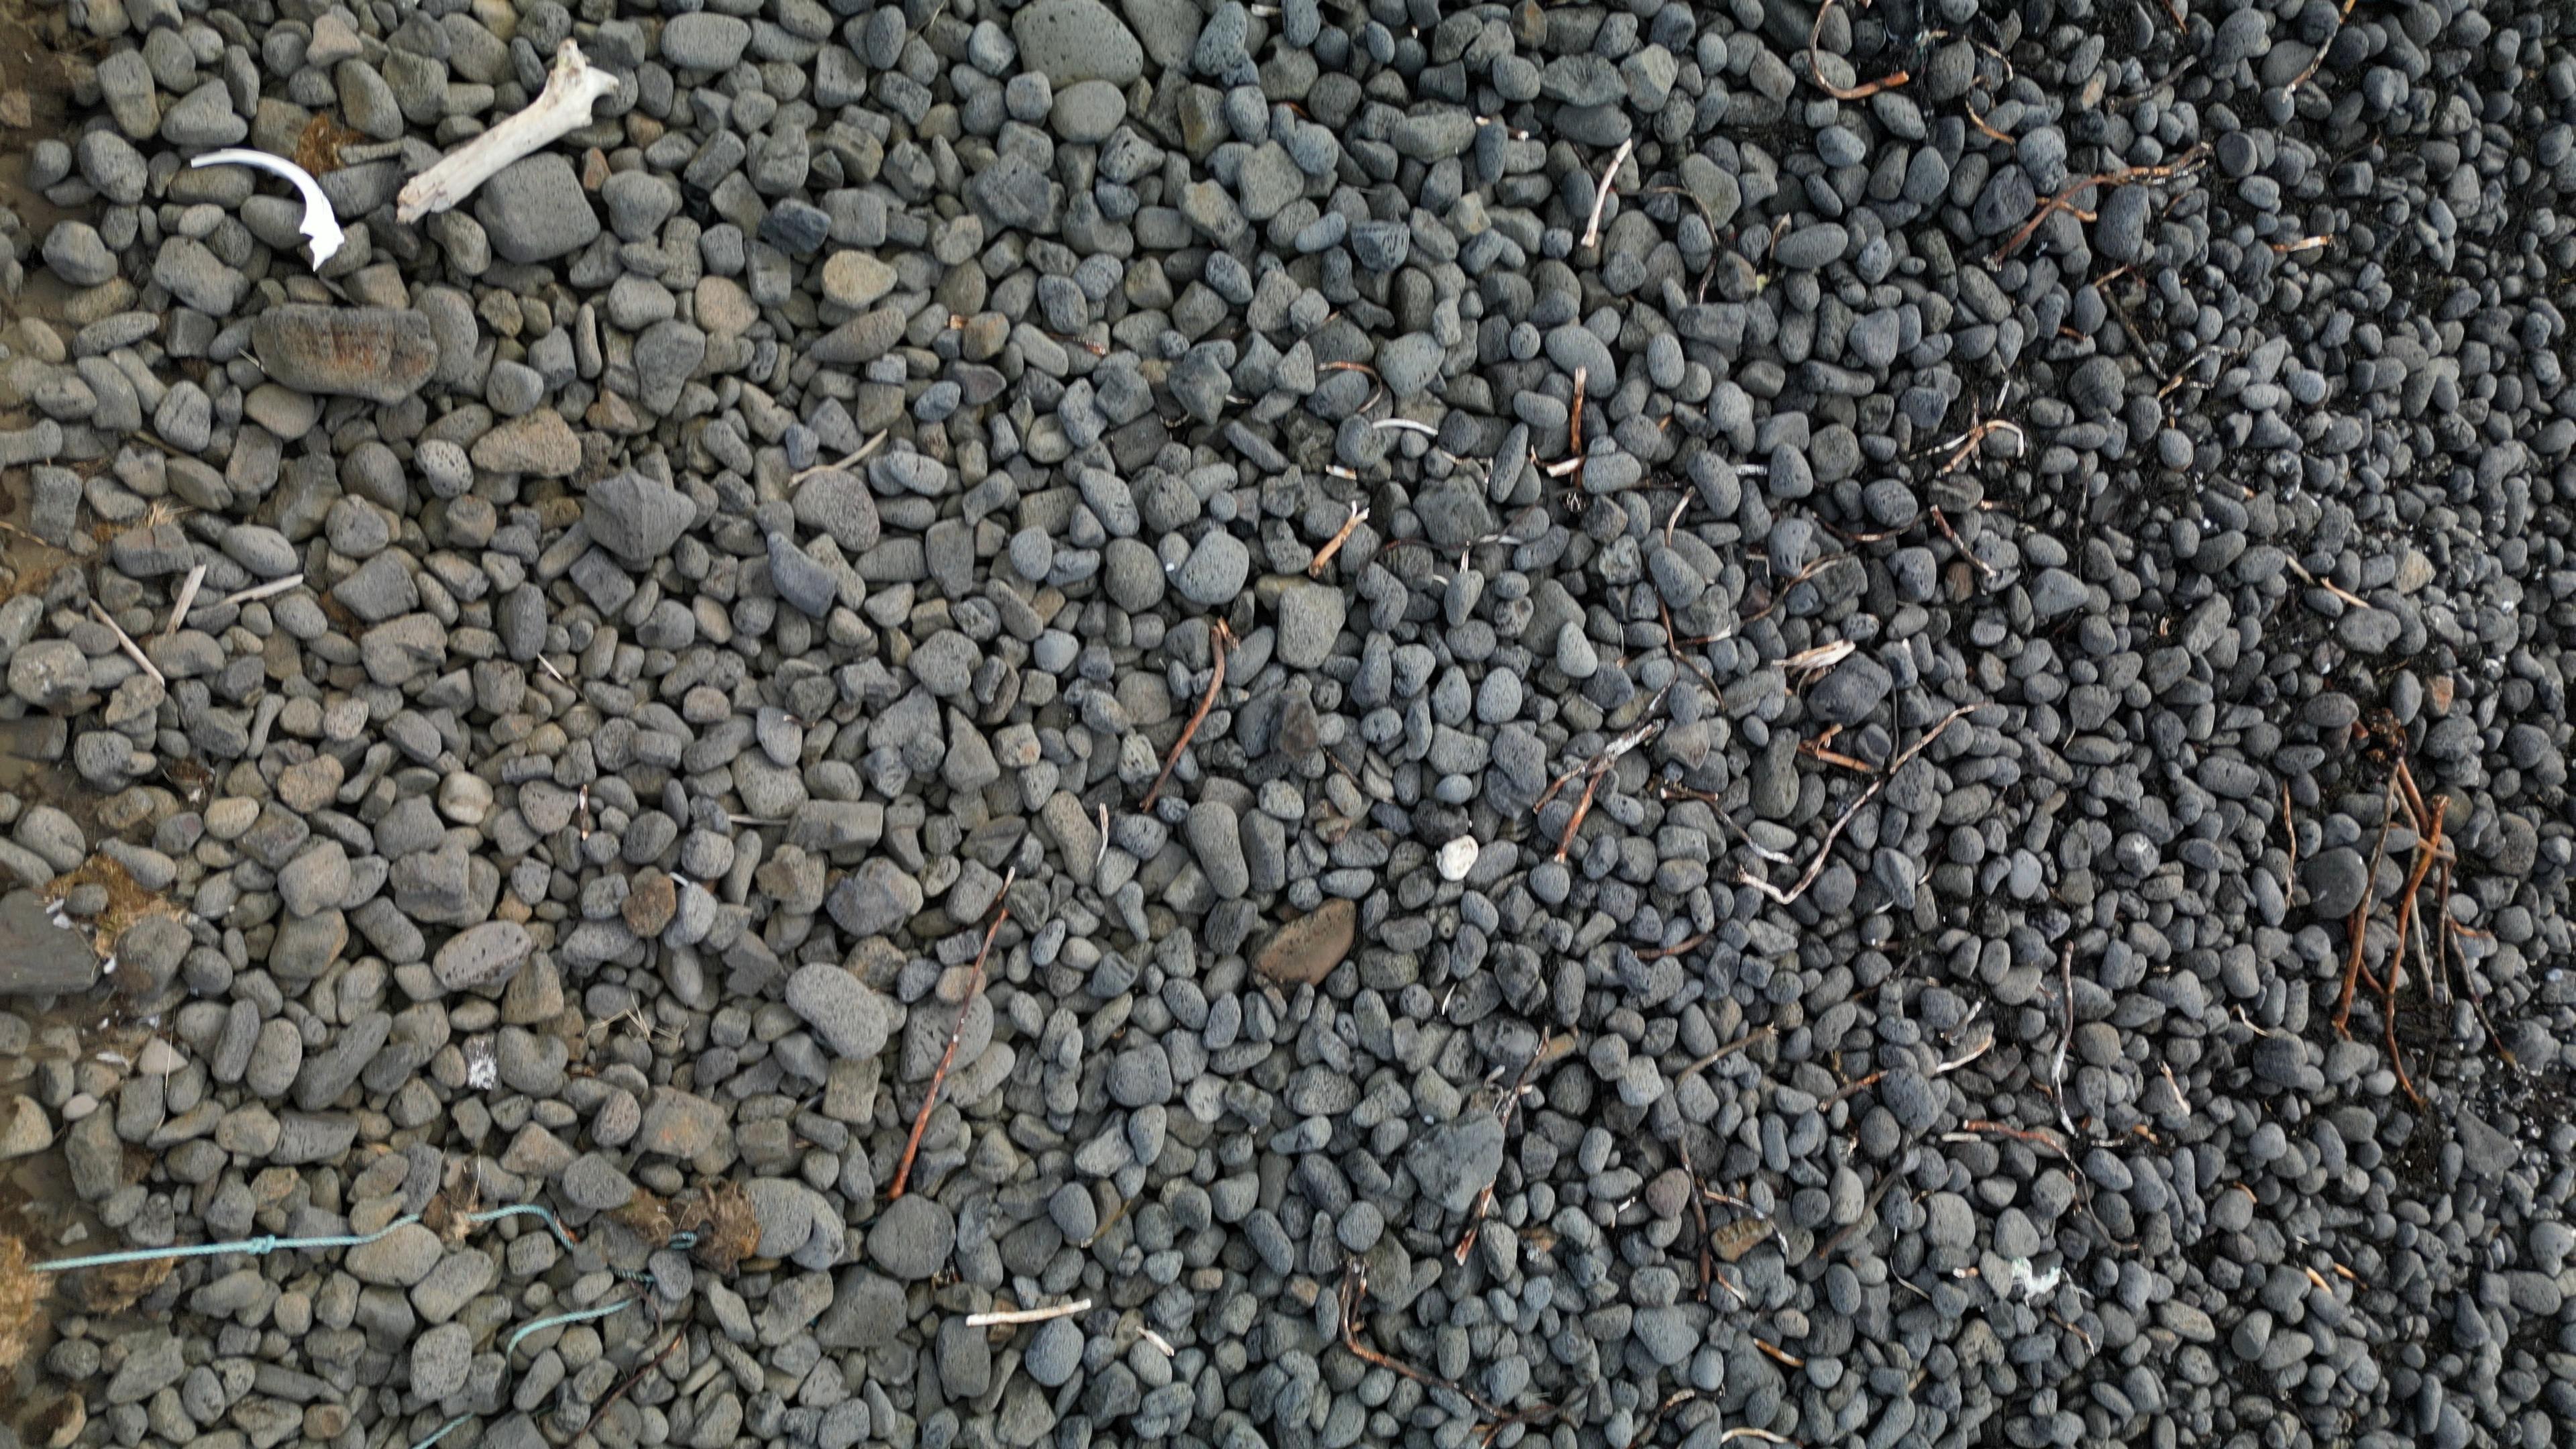trash: (30, 1217, 412, 1272), (196, 145, 341, 267), (502, 1288, 633, 1353), (467, 1203, 573, 1247), (423, 1419, 464, 1449), (674, 1233, 694, 1247)
